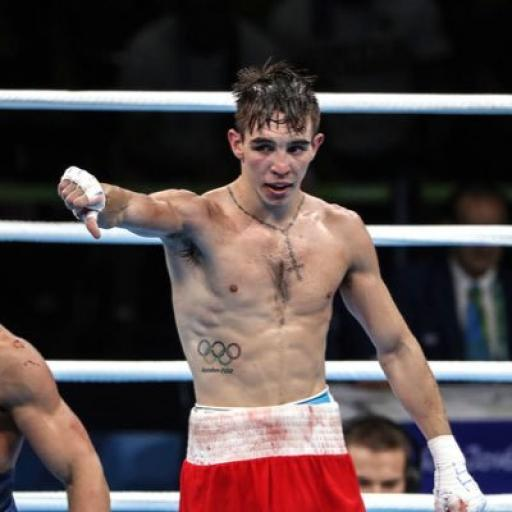boxing: (55, 58, 490, 510)
